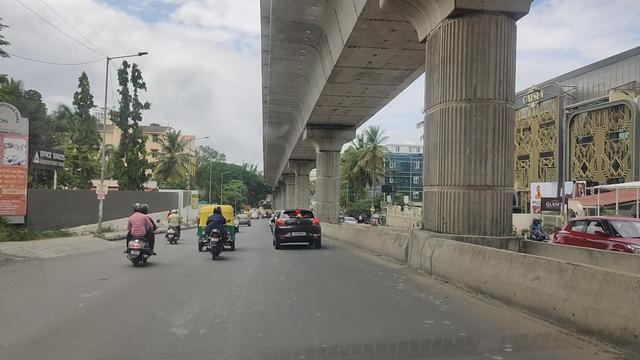LMV: (272, 207, 321, 252), (127, 199, 155, 272), (207, 205, 224, 254)
